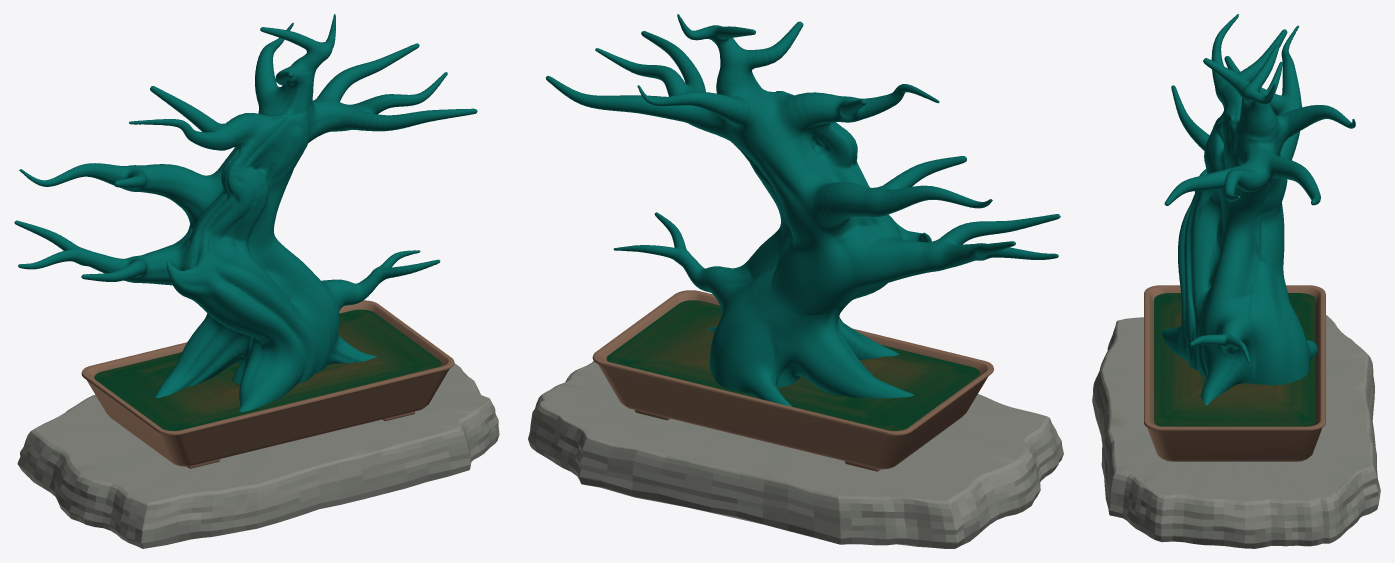
File: hero-v05.glb
3 renders of one model, left to right at view 1: azimuth 30°, elevation 25°; view 2: azimuth 150°, elevation 25°; view 3: azimuth 270°, elevation 25°, orthographic. The views are drawn at different scales.
Parts seen in each view (by area): view 1: Continuous aged trunk and primary branches, Low split natural bedding stone, Shallow unglazed pot, Continuous planted soil; view 2: Continuous aged trunk and primary branches, Low split natural bedding stone, Shallow unglazed pot, Continuous planted soil; view 3: Continuous aged trunk and primary branches, Low split natural bedding stone, Continuous planted soil, Shallow unglazed pot.
Part boxes in pixels (x1,y1,x2,y2): Continuous aged trunk and primary branches: (14,14,477,411); Low split natural bedding stone: (17,363,499,548); Shallow unglazed pot: (81,300,454,466); Continuous planted soil: (94,309,441,430); Continuous aged trunk and primary branches: (546,14,1060,406); Low split natural bedding stone: (528,361,1063,548); Shallow unglazed pot: (592,290,993,469); Continuous planted soil: (606,300,980,430); Continuous aged trunk and primary branches: (1162,14,1355,405); Low split natural bedding stone: (1092,315,1380,548); Continuous planted soil: (1154,293,1315,426); Shallow unglazed pot: (1144,285,1325,461).
Size of the model in its own units: 2.48 by 2.15 by 1.36.
